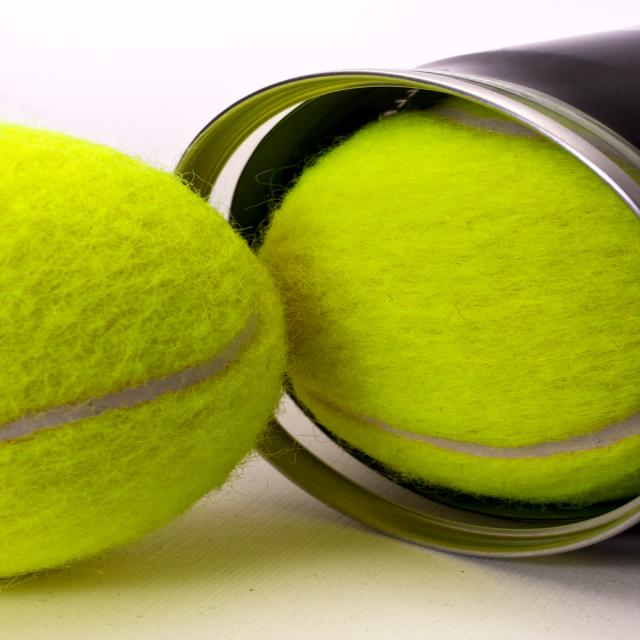Tennis ball: (253, 96, 640, 509), (0, 120, 297, 576)
